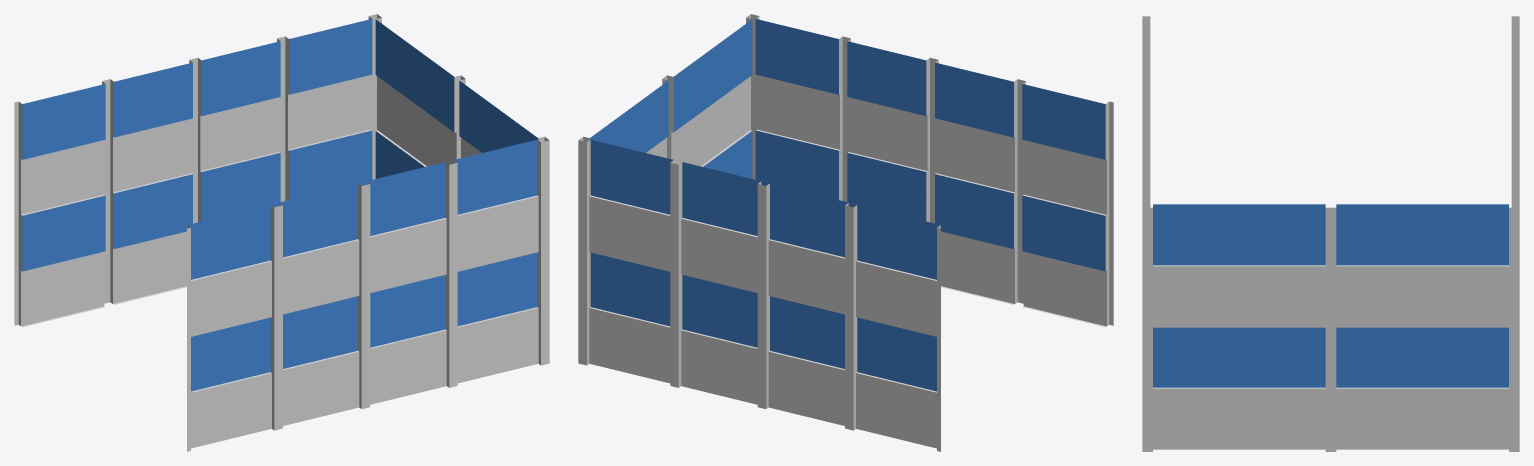
The model's file is 04b_mid.fbx.
The picture shows the model from 3 angles, left to right: view 1: azimuth 30°, elevation 25°; view 2: azimuth 150°, elevation 25°; view 3: azimuth 270°, elevation 25°; orthographic projection. The views are drawn at different scales.
Visible parts, largest first — view 1: 04b_Mid; view 2: 04b_Mid; view 3: 04b_Mid.
Boxes of the visible parts, x1,y1,x2,y2 form: 04b_Mid: (14,14,549,451); 04b_Mid: (578,14,1113,451); 04b_Mid: (1142,16,1519,451).
Size of the model in its own units: 42.5 by 25 by 35.
